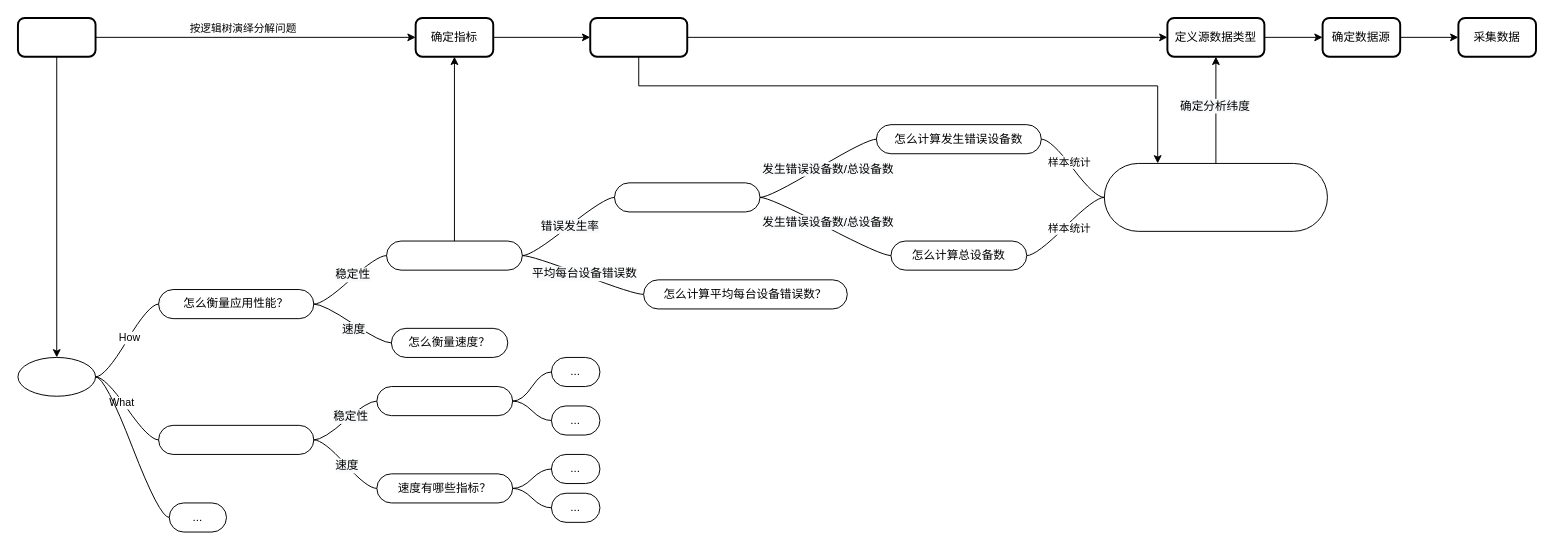
The diagram is 1553 pixels wide and 549 high, and some of its shapes have lost their labels. Each missing label, with the centre of its shape:
"5W2H" belongs at point 56,376.
"分析指标" belongs at point 638,36.
"应用性能有哪些方面？" belongs at point 236,439.
"怎么衡量稳定性？" belongs at point 454,255.
"怎么计算错误发生率" belongs at point 687,197.
"提出问题" belongs at point 56,36.
"稳定性有哪些指标?" belongs at point 444,401.
"错误发生率与什么因素有关？ 不同类型的错误发生率是否一样？ 在什么样的设备上错误发生率最高？ ..." belongs at point 1215,196.
